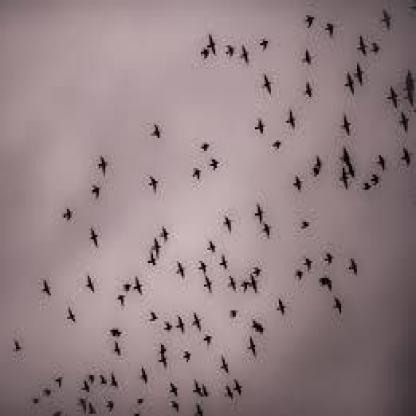bird: (19, 26, 353, 340)
